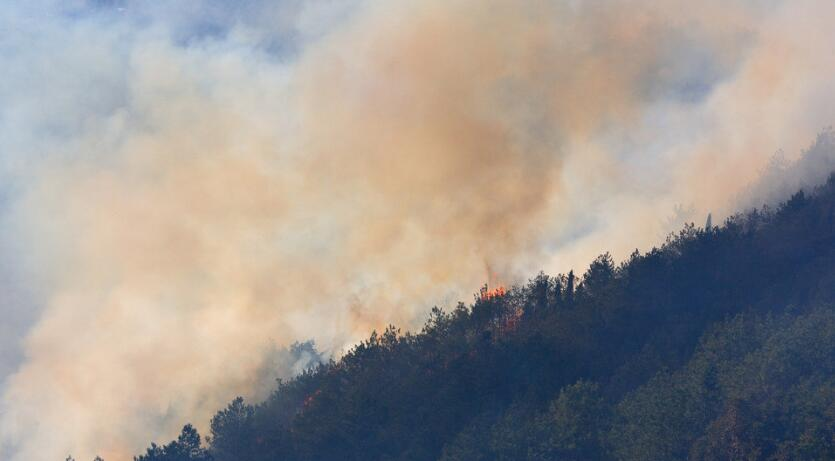yanwu: (301, 0, 835, 319), (7, 0, 374, 453)
